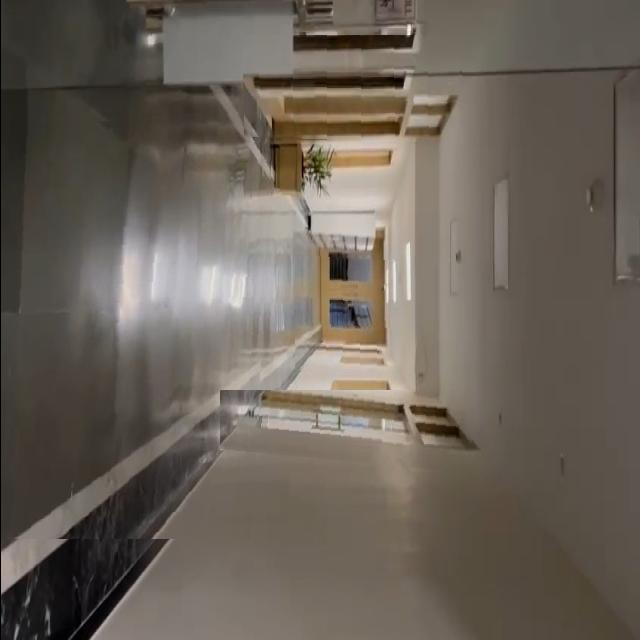door: (242, 35, 478, 144), (219, 390, 474, 473), (292, 227, 400, 377)
floor: (0, 112, 273, 539)
